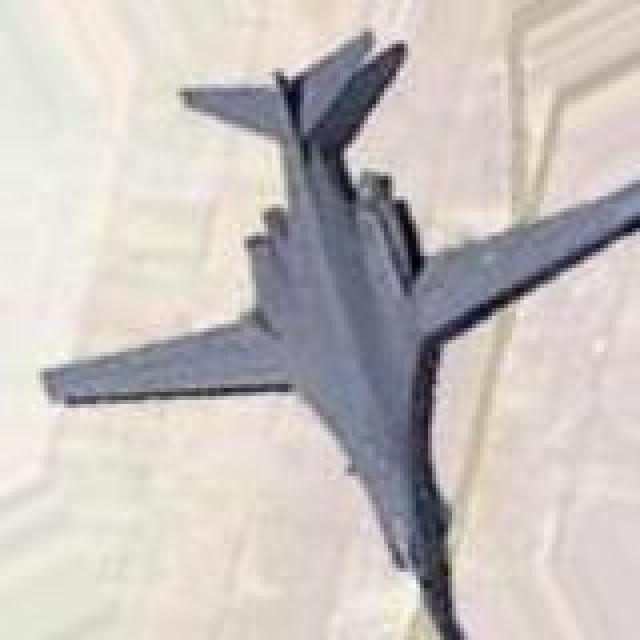B-1_TopDown: (36, 24, 636, 636)
